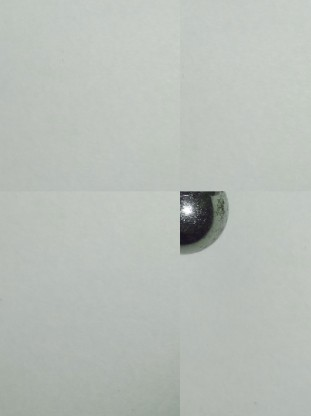ironball: (180, 189, 228, 256)
